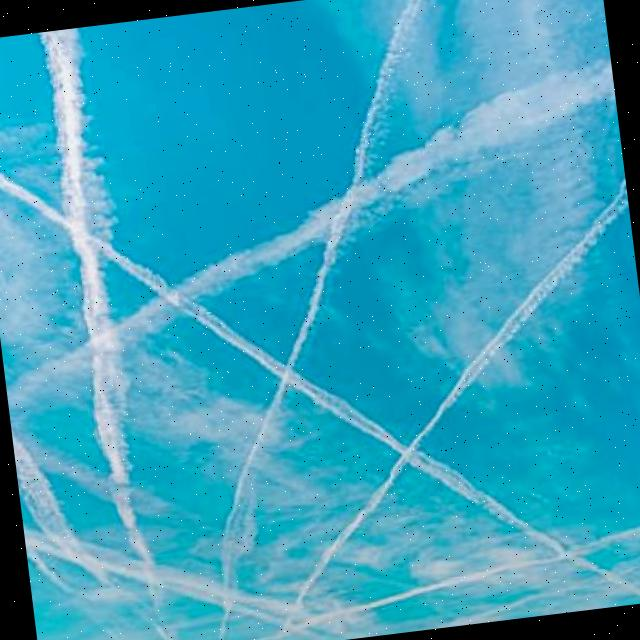Ct: (1, 1, 640, 640)
